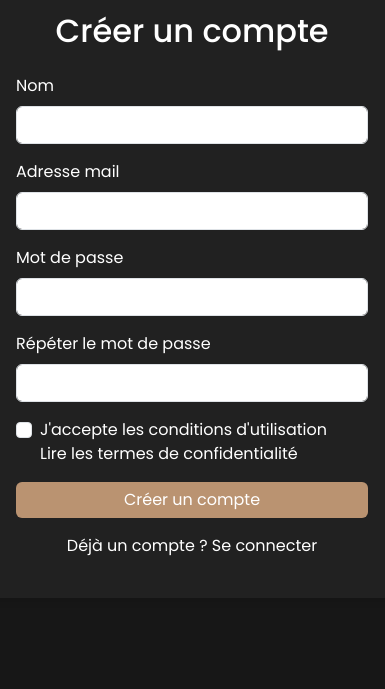
Scenario: SignupPage.vue - Form Validation › should display error if terms and conditions are not accepted
In the field with id "username": [192, 125] box [16,106,368,144], type "ValidUser"
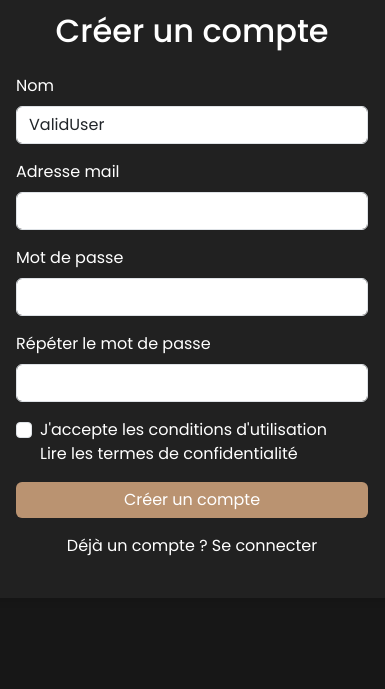
In the field with id "email": [192, 211] box [16,192,368,230], type "valid@email.com"
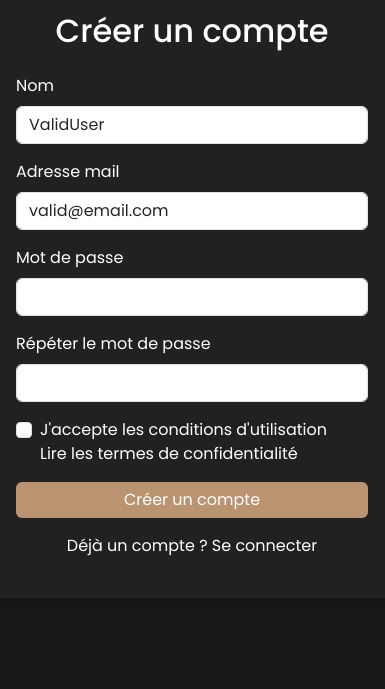
In the password field labelled "Mot de passe": [192, 297] box [16,278,368,316], type "Password1!"
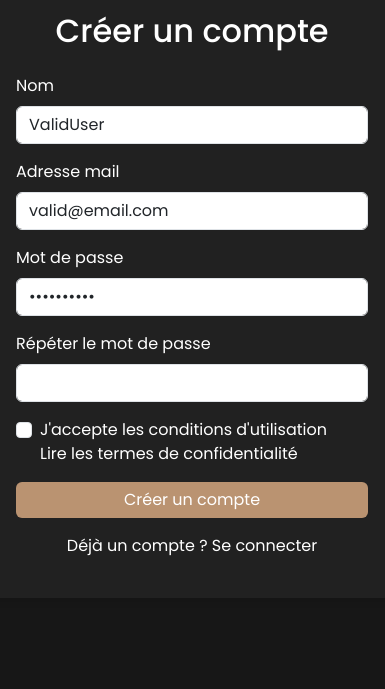
In the password field with id "confirmPassword": [192, 383] box [16,364,368,402], type "Password1!"
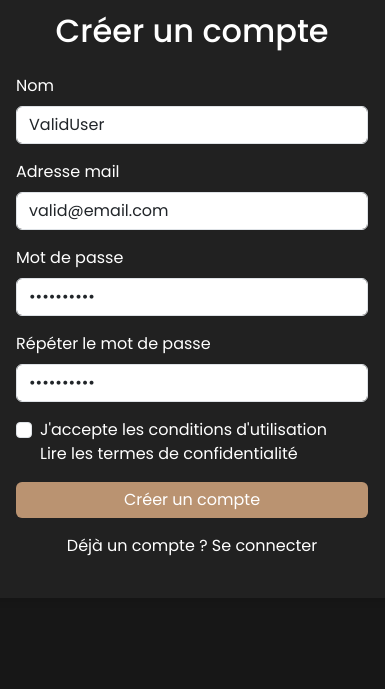
Submit the form
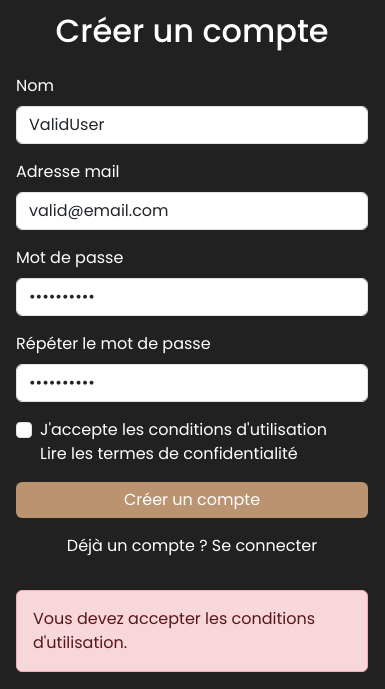
Check: the text "Vous devez accepter les conditions d'utilisation." is shown, box [16,590,368,672]
Check: the text with class "alert-danger" reads "Vous devez accepter les conditions d'utilisation.", box [33,607,315,654]
